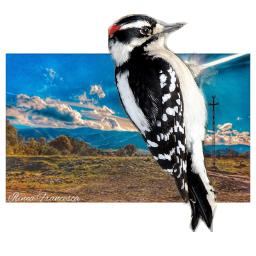Woodpecker: (108, 14, 218, 232)
